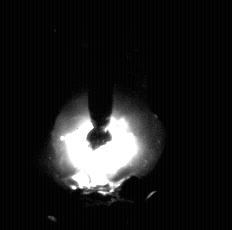arame: (89, 0, 114, 149)
poca: (52, 0, 161, 230)
